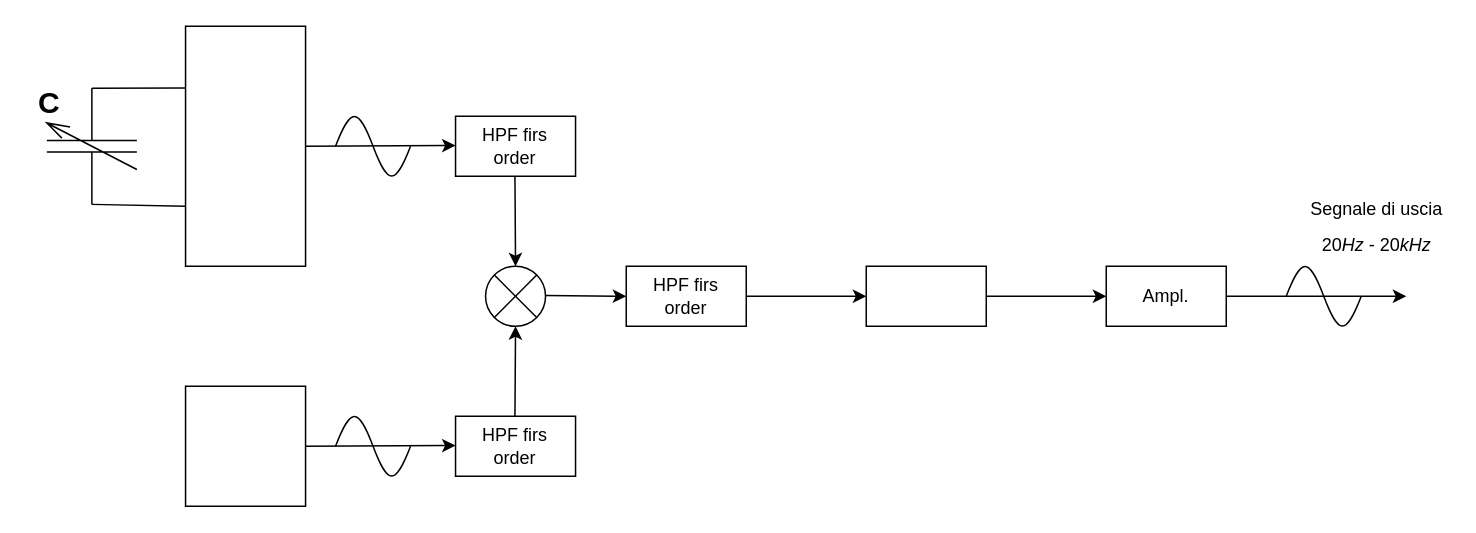
Image size: 1476x533. Some labels were removed from this diagram. Each missing label, with the centre of its shape:
"LPF fourth order" belongs at pixel 925 295.
"Oscillatore di Wien" belongs at pixel 245 445.
"VCO XR2206" belongs at pixel 245 145.
